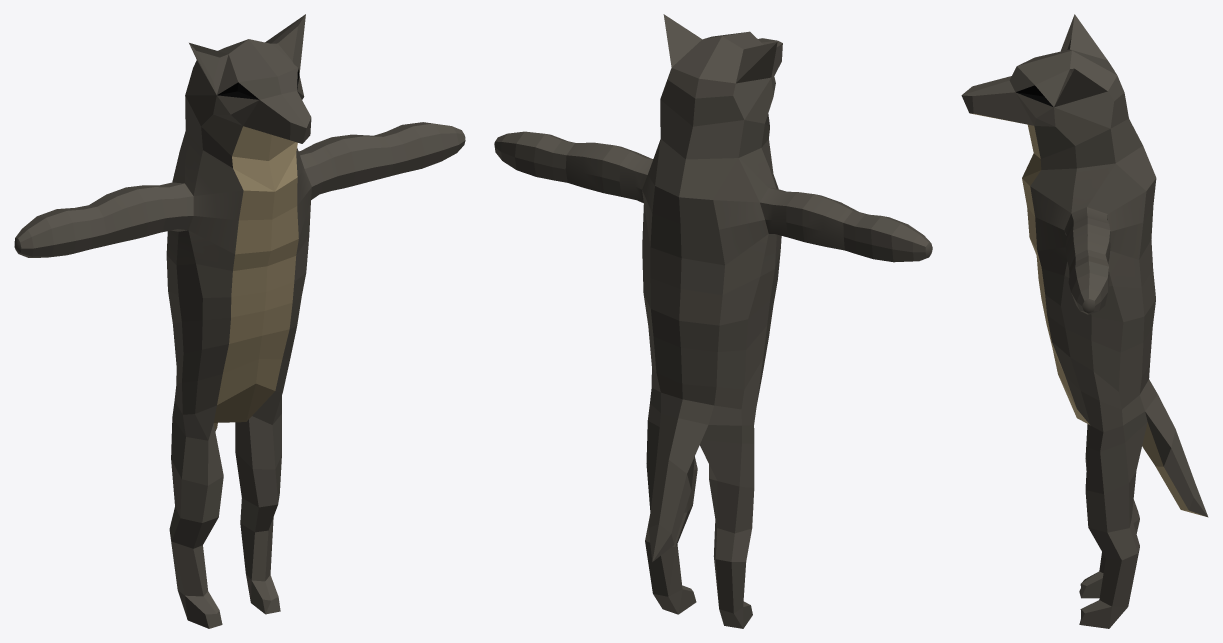
Rendered from coyot.fbx.
The picture shows the model from 3 angles, left to right: view 1: azimuth 30°, elevation 25°; view 2: azimuth 150°, elevation 25°; view 3: azimuth 270°, elevation 25°; orthographic projection. The views are drawn at different scales.
Visible parts, largest first — view 1: Coyote; view 2: Coyote; view 3: Coyote.
Boxes of the visible parts, box(x1,y1,x2,y2) form: Coyote: box(14, 14, 465, 628); Coyote: box(494, 14, 932, 628); Coyote: box(961, 14, 1208, 628).
Bounding box in the file's own units: 5.21 × 6.57 × 2.59.
